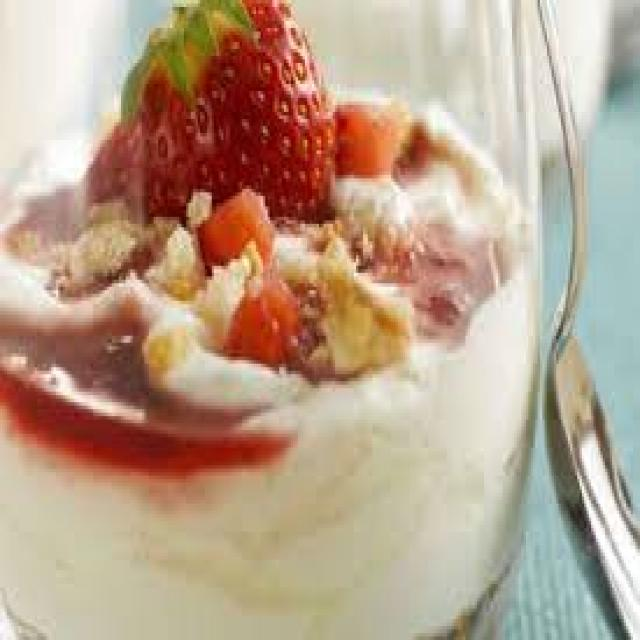organic waste: (116, 0, 333, 224), (303, 238, 414, 385), (216, 269, 305, 364), (56, 192, 137, 284), (196, 234, 274, 322), (328, 98, 407, 178), (195, 185, 272, 262), (386, 112, 466, 182), (144, 224, 214, 301), (79, 108, 128, 196), (140, 290, 193, 367)
